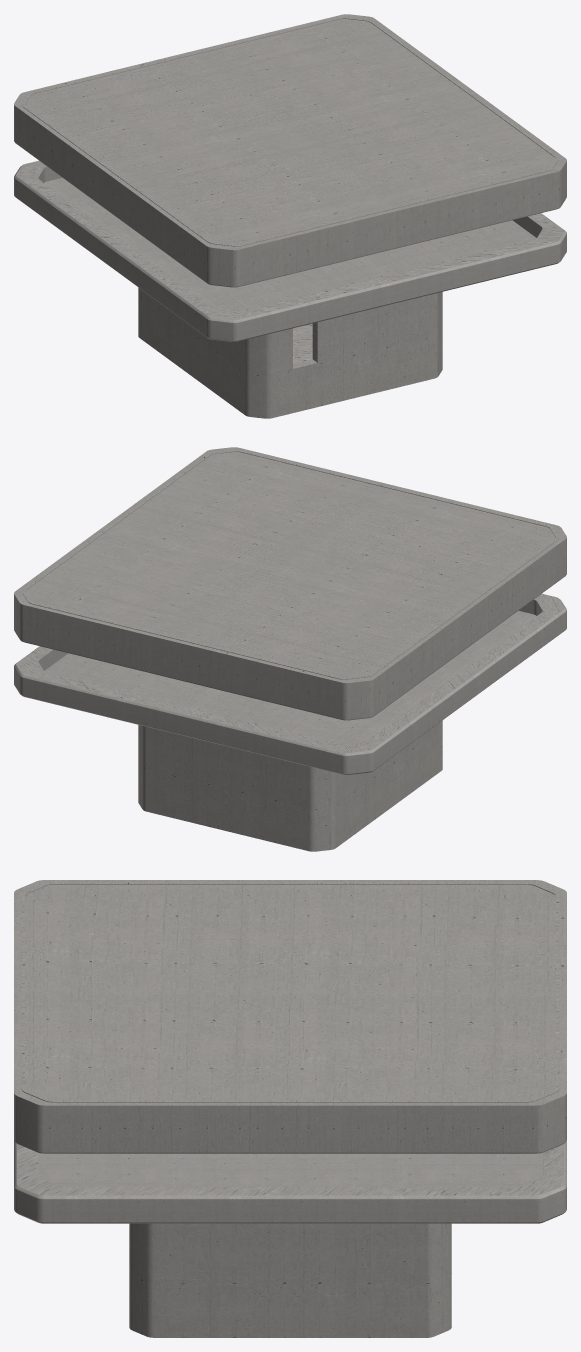
The model's file is signalBox.fbx.
3 views of the same model, one above another, from view 1: azimuth 30°, elevation 25°; view 2: azimuth 150°, elevation 25°; view 3: azimuth 270°, elevation 25° (orthographic). The views are drawn at different scales.
Parts seen in each view (by area): view 1: polySurface14, pasted__polySurface90, polySurface12, polySurface13; view 2: polySurface14, pasted__polySurface90, polySurface12, polySurface13; view 3: polySurface14, pasted__polySurface90, polySurface12, polySurface13.
Boxes of the visible parts, <box> form: polySurface14: <box>14,14,566,418</box>; pasted__polySurface90: <box>44,177,536,310</box>; polySurface12: <box>22,17,558,246</box>; polySurface13: <box>37,166,543,310</box>; polySurface14: <box>14,447,566,851</box>; pasted__polySurface90: <box>44,610,536,743</box>; polySurface12: <box>22,450,558,679</box>; polySurface13: <box>37,599,543,743</box>; polySurface14: <box>14,880,566,1337</box>; pasted__polySurface90: <box>37,1152,543,1186</box>; polySurface12: <box>21,882,559,1102</box>; polySurface13: <box>36,1152,544,1187</box>.
Size of the model in its own units: 1744 by 1025 by 1808.
Materials: 3 (2 with a texture image).
